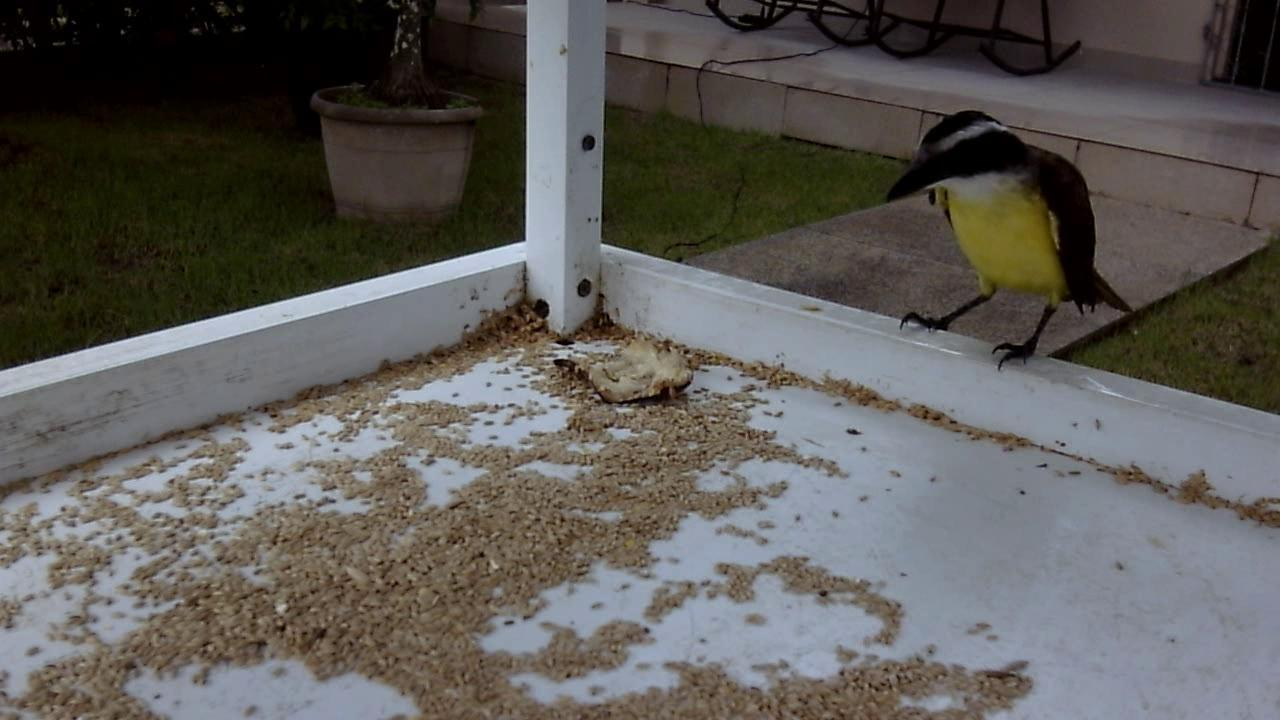bem_te_vi: (866, 97, 1139, 392)
